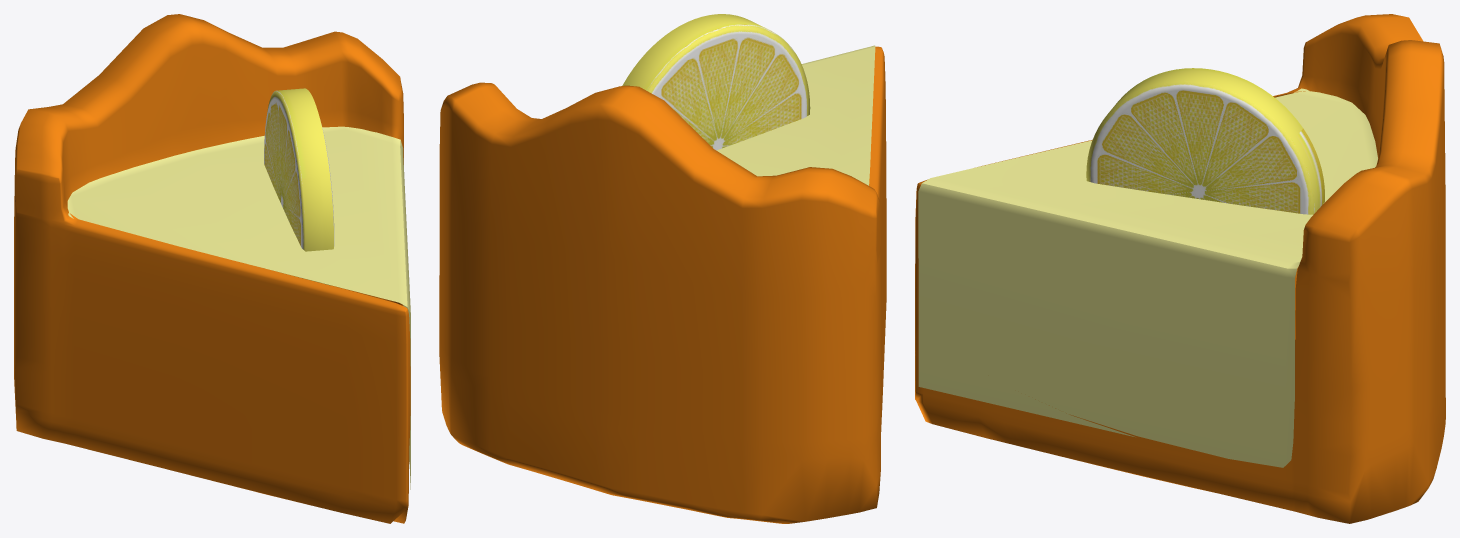
Rendered from dangao.fbx.
The picture shows the model from 3 angles, left to right: view 1: azimuth 30°, elevation 25°; view 2: azimuth 150°, elevation 25°; view 3: azimuth 270°, elevation 25°; orthographic projection. The views are drawn at different scales.
Visible parts, largest first — view 1: polySurface7, polySurface8, pCylinder1; view 2: polySurface7, pCylinder1, polySurface8; view 3: polySurface8, polySurface7, pCylinder1.
Boxes of the visible parts, x1,y1,x2,y2 form: polySurface7: [14, 14, 410, 523]; polySurface8: [67, 126, 410, 489]; pCylinder1: [264, 88, 334, 285]; polySurface7: [439, 46, 886, 523]; pCylinder1: [622, 14, 810, 150]; polySurface8: [716, 45, 875, 185]; polySurface8: [918, 88, 1377, 467]; polySurface7: [915, 14, 1445, 523]; pCylinder1: [1086, 68, 1324, 214].
Size of the model in its own units: 2.3 by 2.5 by 2.
Materials: 3 (1 with a texture image).
